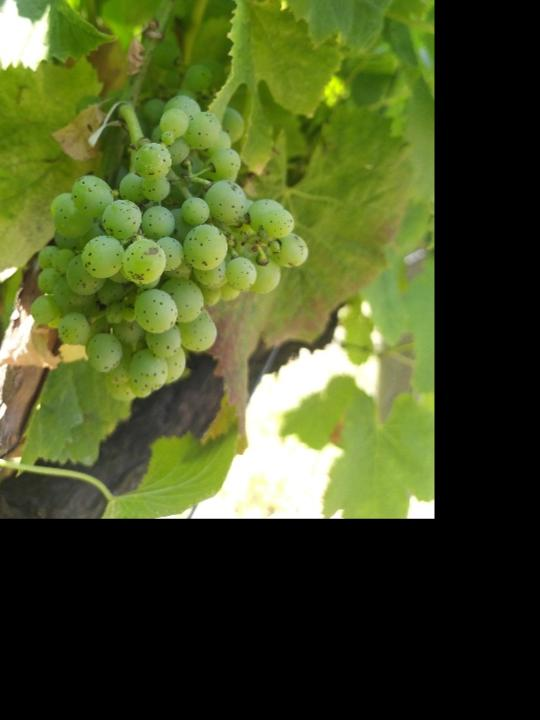grape: (30, 92, 313, 405)
